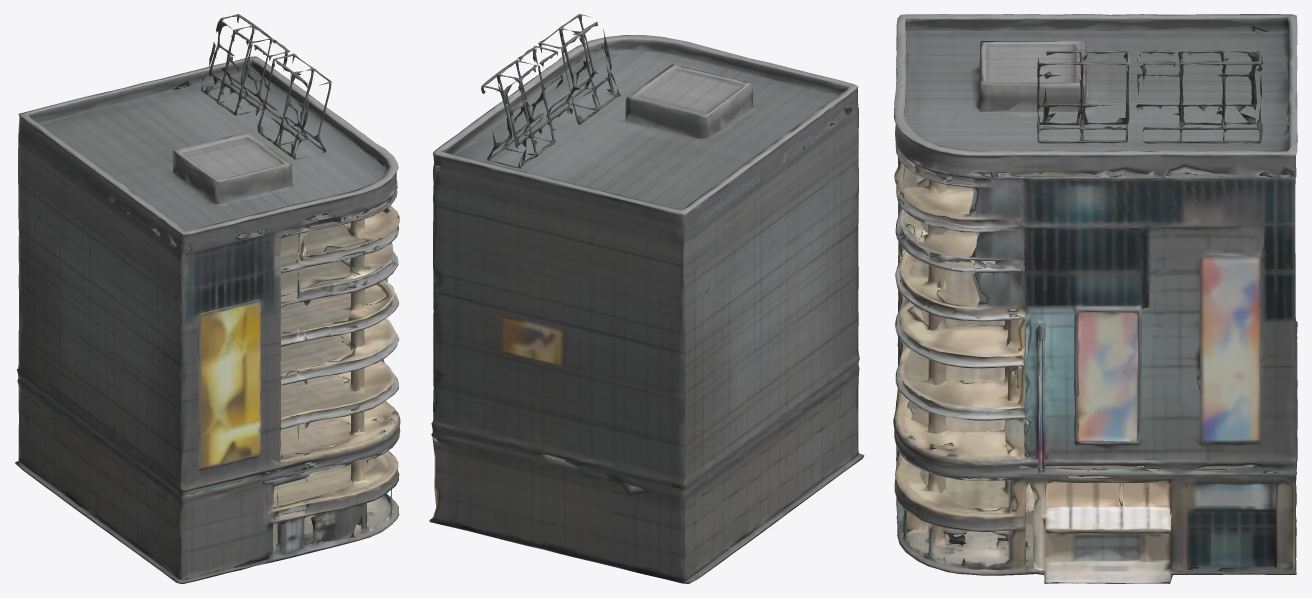
Rendered from city_dept.0.glb.
3 renders of one model, left to right at view 1: azimuth 30°, elevation 25°; view 2: azimuth 150°, elevation 25°; view 3: azimuth 270°, elevation 25°, orthographic. The views are drawn at different scales.
Parts seen in each view (by area): view 1: geometry_0; view 2: geometry_0; view 3: geometry_0.
Boxes of the visible parts, x1,y1,x2,y2 form: geometry_0: (15, 14, 400, 583); geometry_0: (429, 14, 864, 583); geometry_0: (893, 14, 1297, 583).
Size of the model in its own units: 0.6883 by 1 by 0.7444.
Materials: 1 (1 with a texture image).
